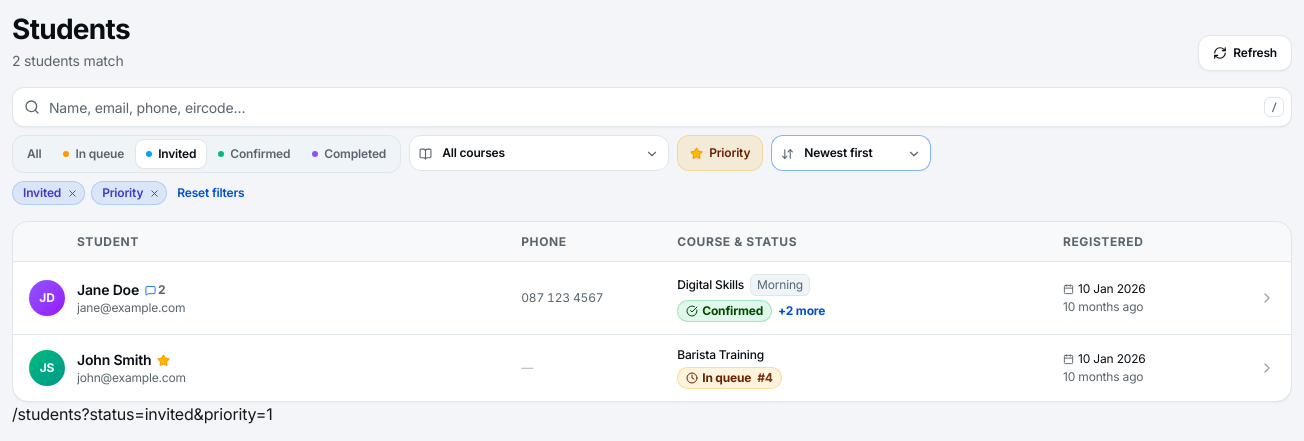
it: ViewerStudentsDirectory › shows filter chips and resets every filter
expect the text "Invited" is shown: met, box [12,181,85,205]
Click the button "Reset filters".
click(211, 193)  # box [177,185,244,201]
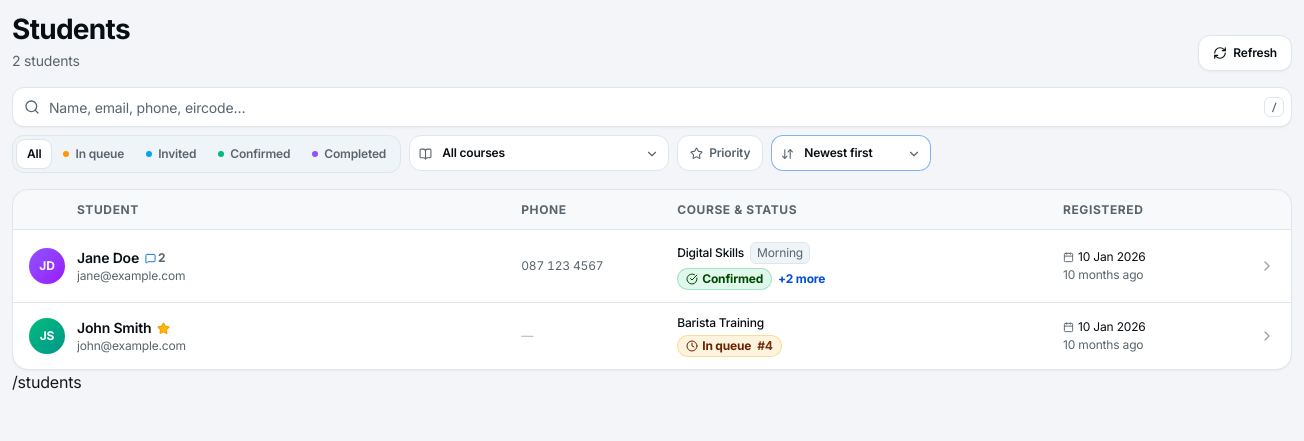
expect the text with test id "location" reads "/students": met, box [12,372,81,392]
